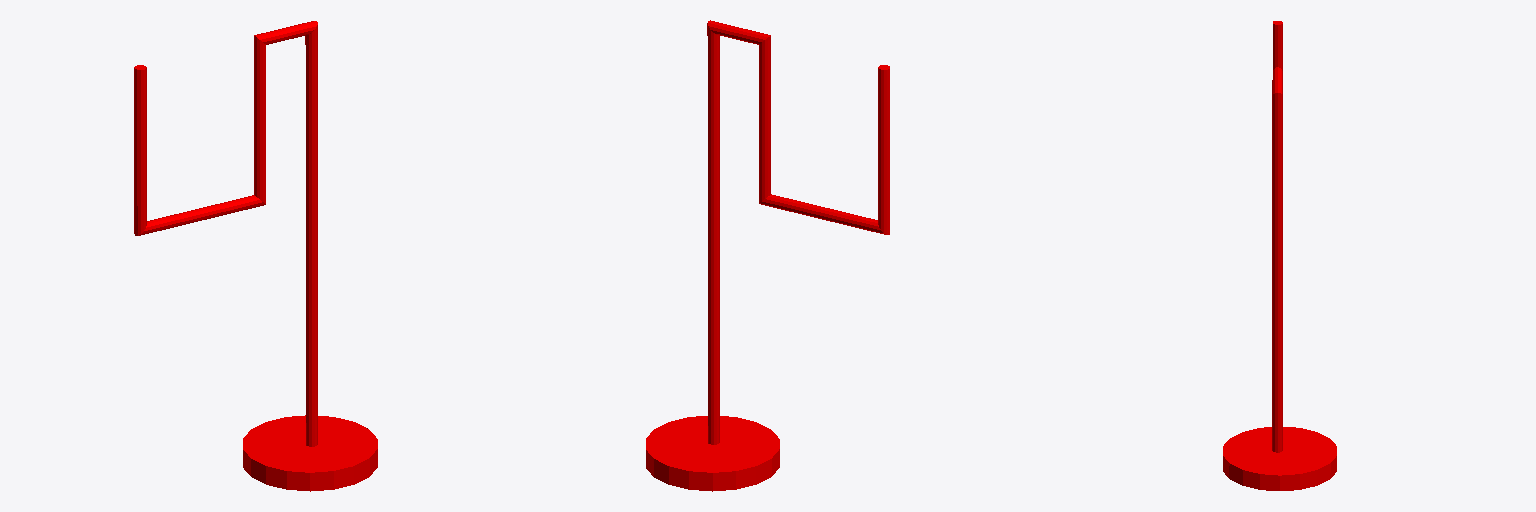
robot.urdf — ring:
<?xml version="0.0" ?>
<robot name="ring">
    <material name="white">
        <color rgba="1 0 0 1"/>
    </material>

    <link name="baseLink">
        <!-- from lego/lego.urdf -->
        <contact>
            <lateral_friction value="1.0"/>
            <rolling_friction value="0.0"/>
            <contact_cfm value="0.0"/>
            <contact_erp value="1.0"/>
        </contact>
        <inertial>
            <origin rpy="0 0 0" xyz="0 0 0"/>
            <mass value="0.01"/>
            <inertia ixx="1" ixy="0" ixz="0" iyy="1" iyz="0" izz="1"/>
        </inertial>
        <visual>
            <origin rpy="1.57 0 0" xyz="0 0 0"/>
            <geometry>
                <!--        radius: 10mm, depth: 14.5mm-->
                <mesh filename="meshes/u.obj" scale="1 1 1"/>
                <!--        <box size="0.002 0.002 0.002"/>-->
            </geometry>
            <material name="white"/>
        </visual>
        <collision>
            <origin rpy="1.57 0 0" xyz="0 0 0"/>
            <geometry>
                <mesh filename="meshes/u_vhacd.obj" scale="1 1 1"/>
                       <!-- <box size="2 2 2"/> -->
            </geometry>
        </collision>
    </link>
</robot>

--- Facts derived from the render (not from the file) ---
The picture shows the robot from 3 angles, left to right: view 1: azimuth 30°, elevation 25°; view 2: azimuth 150°, elevation 25°; view 3: azimuth 270°, elevation 25°; orthographic projection.
Robot: ring — 1 links, 0 joints (none); root link baseLink; default pose: all joints at 0.
Visible links, largest first — view 1: baseLink; view 2: baseLink; view 3: baseLink.
Boxes of the visible links, bbox=[...] form: baseLink: bbox=[134, 21, 377, 491]; baseLink: bbox=[646, 20, 889, 491]; baseLink: bbox=[1223, 21, 1336, 490].
Size in the robot's own frame: 0.0625 by 0.031 by 0.112 metres.
1 mesh visuals loaded from 1 distinct referenced files (1 OBJ).